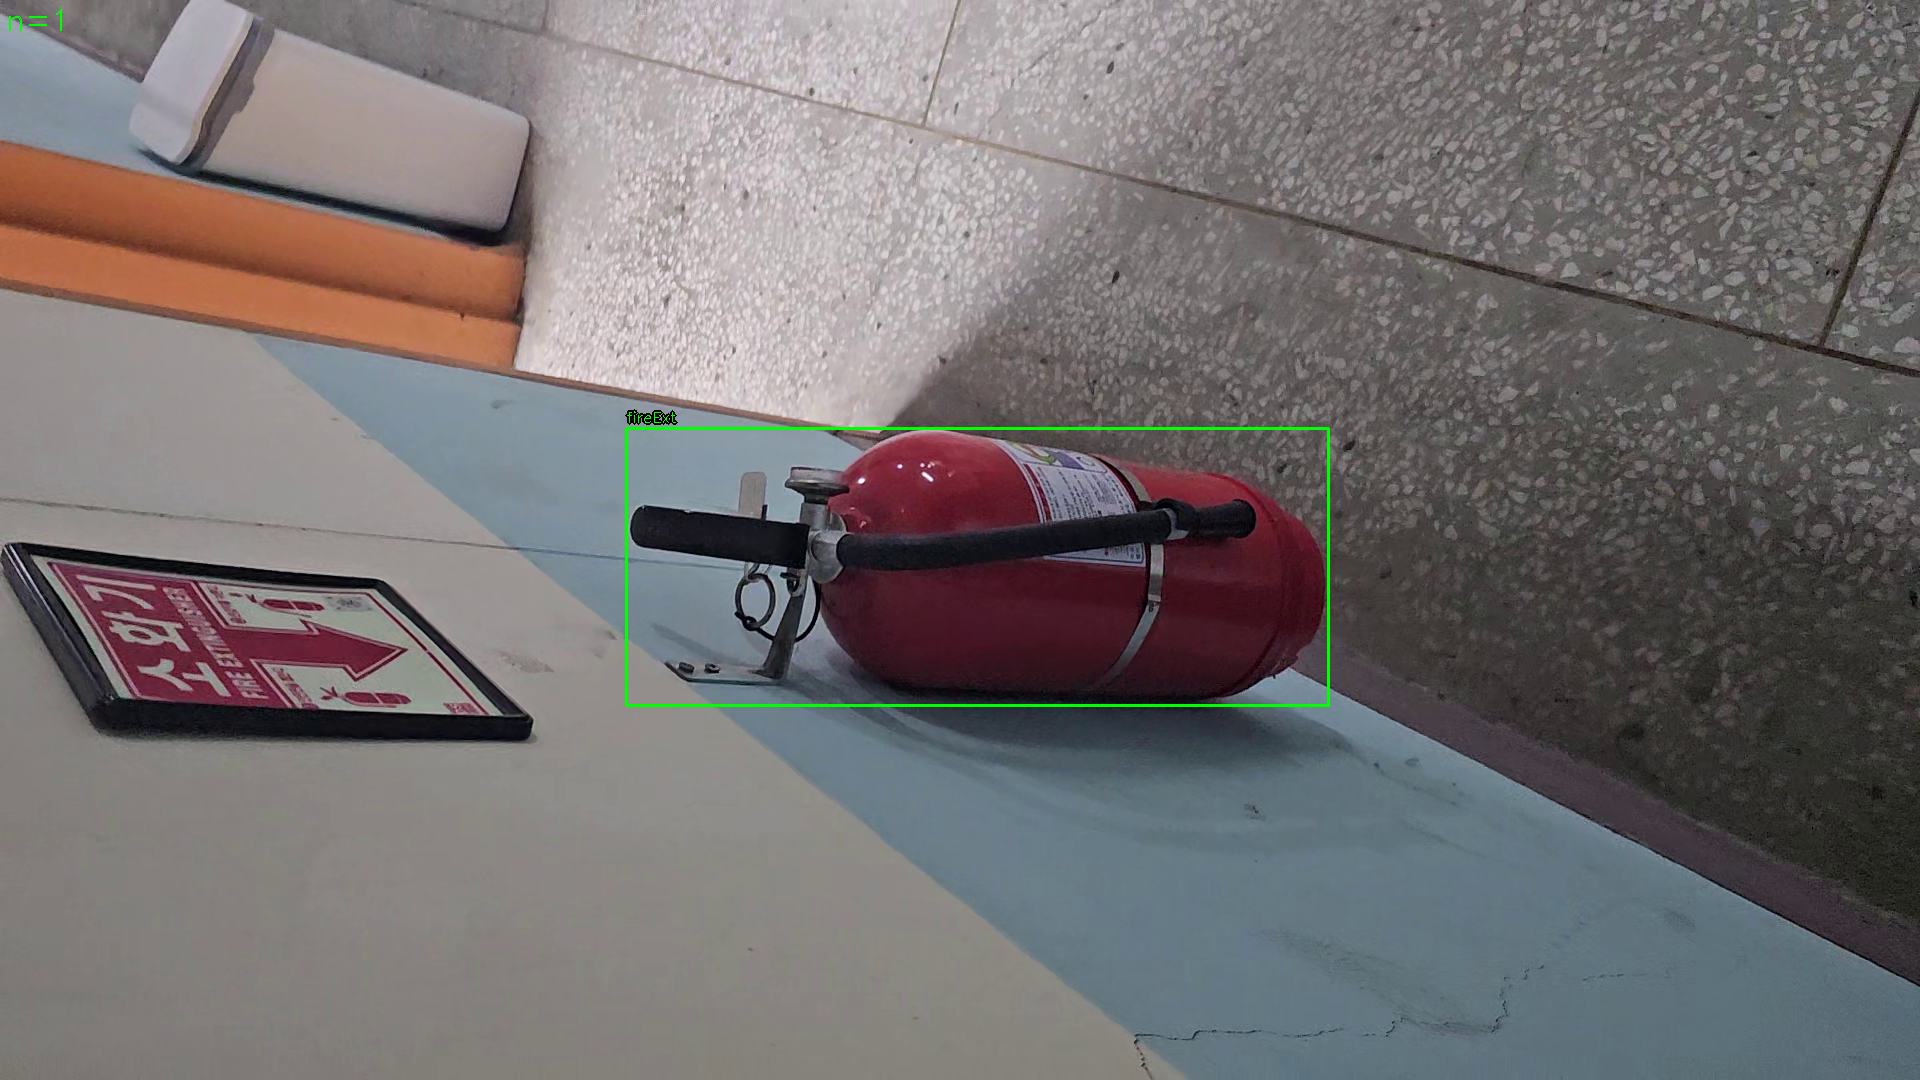lane: (626, 429, 1329, 705)
